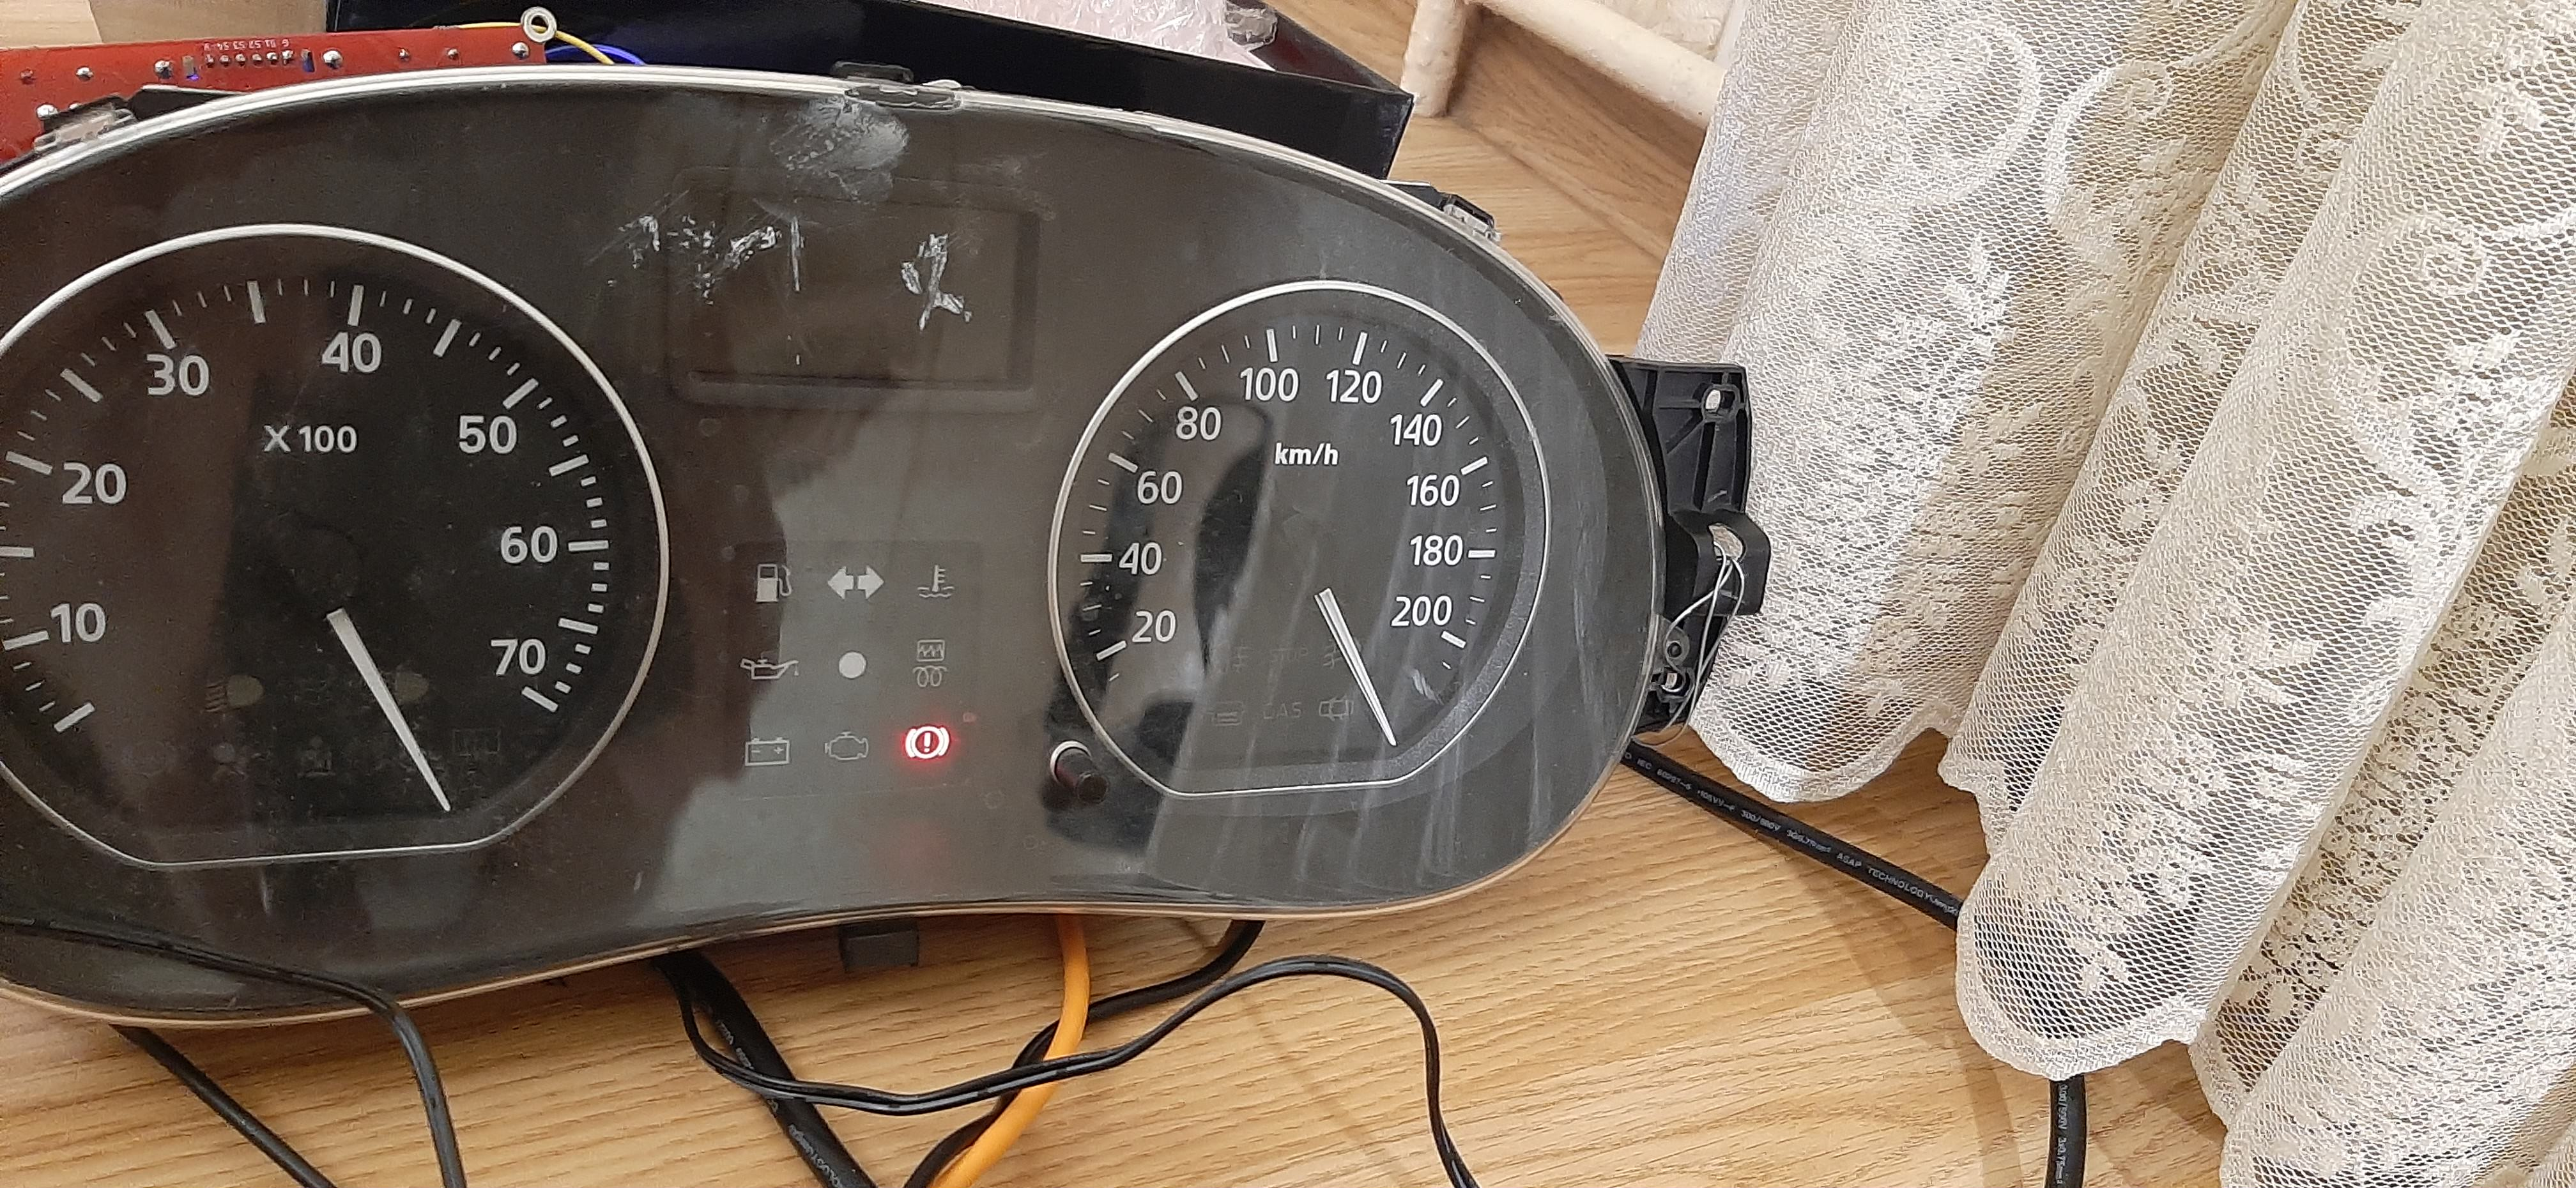brake15: (905, 723, 950, 761)
